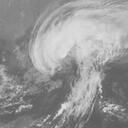cyclone: (32, 30, 94, 77)
